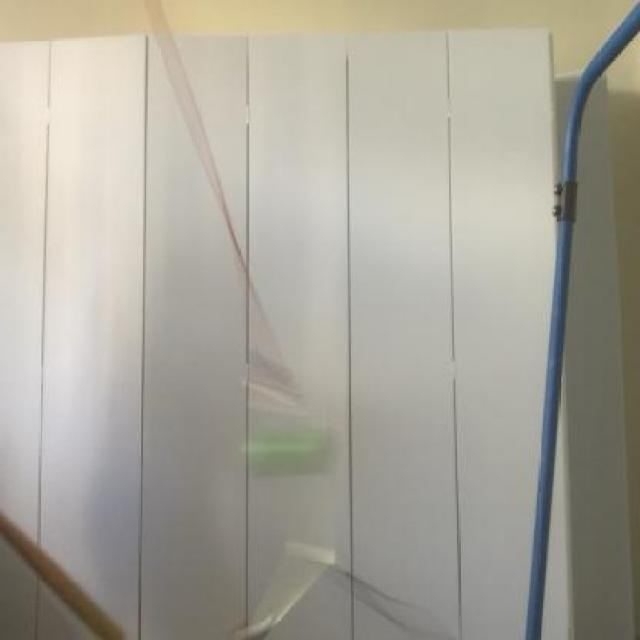baseball: (230, 410, 353, 479)
